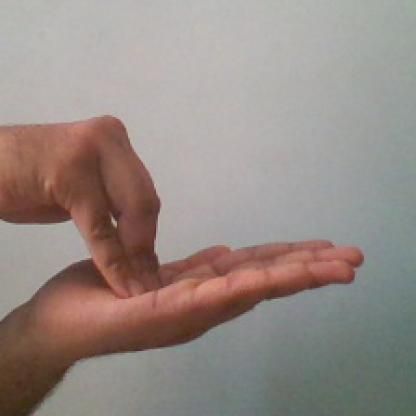Z: (0, 114, 369, 356)
